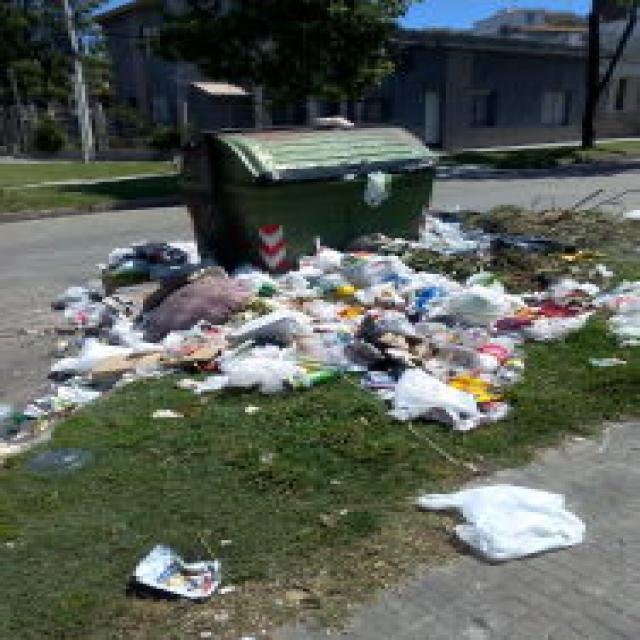garbage: (81, 253, 634, 409), (402, 481, 576, 563), (408, 210, 532, 284), (113, 534, 215, 614)
